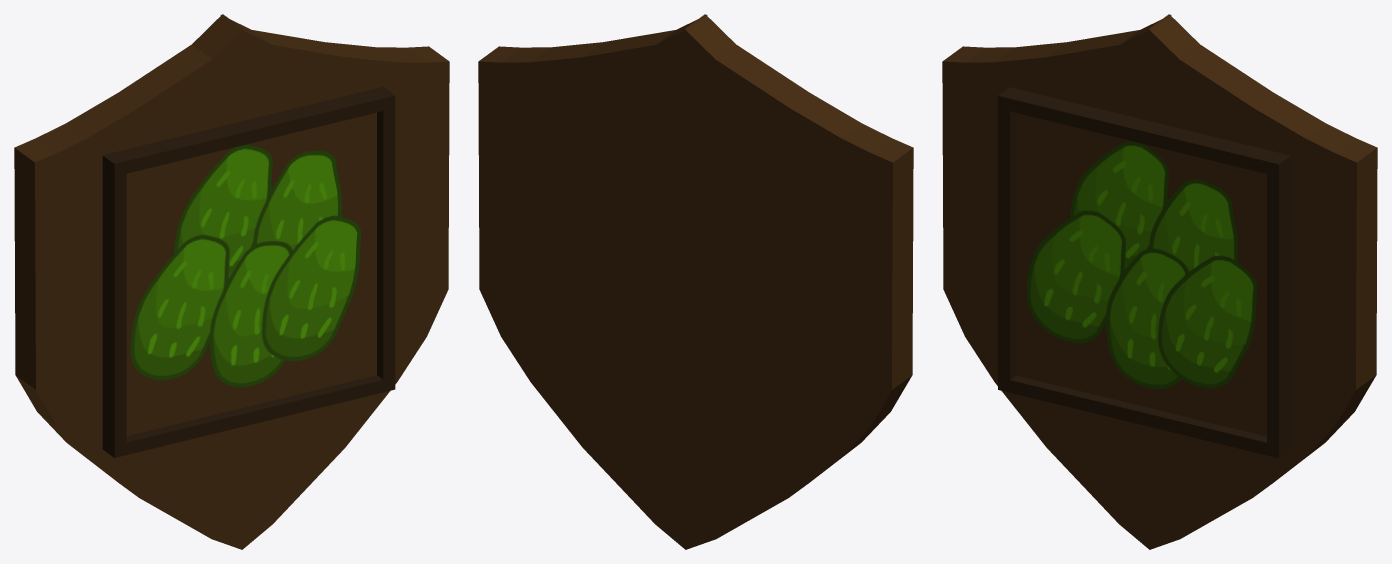
The model's file is Avocado_crest.fbx.
3 renders of one model, left to right at view 1: azimuth 30°, elevation 25°; view 2: azimuth 150°, elevation 25°; view 3: azimuth 330°, elevation 25°, orthographic.
Visible parts, largest first — view 1: Cube; view 2: Cube; view 3: Cube.
Boxes of the visible parts, <box> form: Cube: <box>14,14,449,549</box>; Cube: <box>478,14,913,549</box>; Cube: <box>942,14,1377,549</box>.
Size of the model in its own units: 50 by 60 by 6.8.
